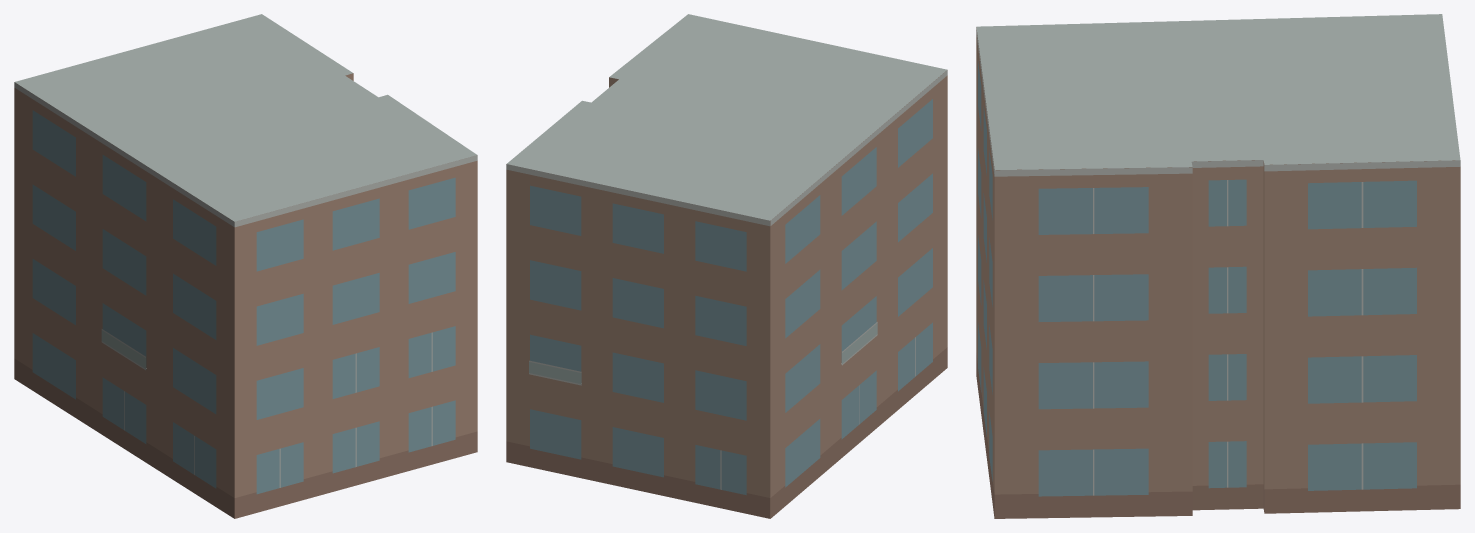
The model's file is survey-upis-32727594.glb.
3 renders of one model, left to right at view 1: azimuth 30°, elevation 25°; view 2: azimuth 150°, elevation 25°; view 3: azimuth 270°, elevation 25°, orthographic. The views are drawn at different scales.
Visible parts, largest first — view 1: survey-upis-32727594.tmp; view 2: survey-upis-32727594.tmp; view 3: survey-upis-32727594.tmp.
Part boxes in pixels (x1=…): survey-upis-32727594.tmp: x1=14, y1=14, x2=477, y2=518; survey-upis-32727594.tmp: x1=506, y1=14, x2=947, y2=518; survey-upis-32727594.tmp: x1=976, y1=14, x2=1460, y2=518.
Bounding box in the file's own units: 12.48 × 12.99 × 16.35.
